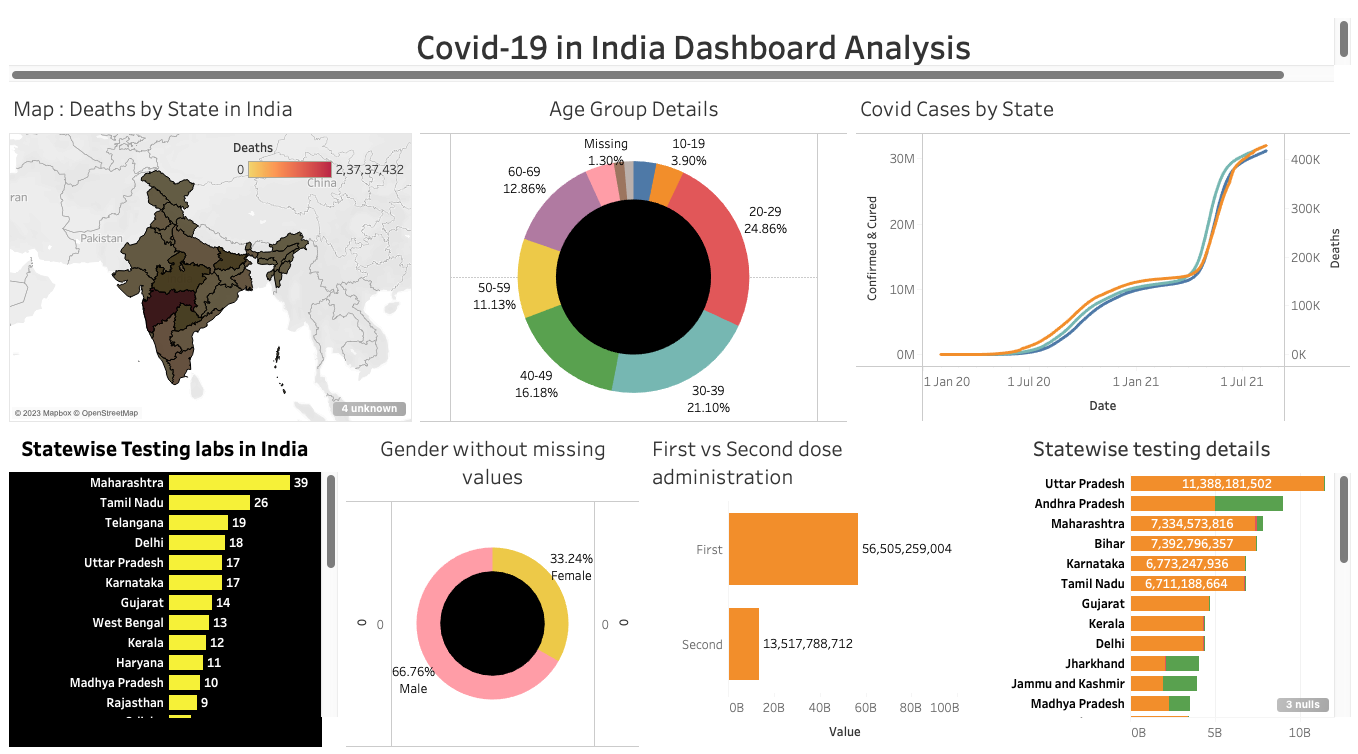

What the dashboard file says about the page in this screenshot:
{"tool":"tableau","page":{"name":"Dashboard 1","canvas":[1366,768],"ordinal":0},"visuals":[{"type":"worksheet","title":"Title","mark":"Automatic","box":[8,8,1350,87.3]},{"type":"worksheet","title":"Map : Deaths by State in India","mark":"Automatic","box":[8,95.3,410.7,339.7]},{"type":"worksheet","title":"Age Group Details","mark":"Pie","rows":["Calculation_489485032338145281","Calculation_489485032338161667"],"box":[418.7,95.3,436.4,339.7]},{"type":"worksheet","title":"Covid Cases by State","mark":"Automatic","rows":["Deaths"],"cols":["Date"],"box":[855.1,95.3,502.9,339.7]},{"type":"legend","title":"Map : Deaths by State in India","param":"[federated.067vdr31i0kn341d56voi1po8vsw].[sum:Deaths:qk]","box":[236,148,176,62]},{"type":"worksheet","title":"ICMR Testing labs in India","mark":"Automatic","rows":["state"],"cols":["lab"],"box":[8,435,337.5,325]},{"type":"worksheet","title":"Gender without missing values","mark":"Pie","rows":["Calculation_489485032344084485","Calculation_489485032344096775"],"box":[345.5,435,301.7,325]},{"type":"worksheet","title":"First vs Second dose administration","mark":"Automatic","box":[647.1,435,321.6,325]},{"type":"worksheet","title":"Statewise testing details","mark":"Automatic","rows":["State"],"box":[968.8,435,389.2,325]}]}

Visuals, with their boxes in screenshot pixels (x1, y1, x2, y2), scaled from the page's 1366x768 canvas onto the 1358x754 screenshot:
"Title" worksheet: box(8, 8, 1350, 94)
"Map : Deaths by State in India" worksheet: box(8, 94, 416, 427)
"Age Group Details" worksheet (Pie marks): box(416, 94, 850, 427)
"Covid Cases by State" worksheet: box(850, 94, 1350, 427)
"Map : Deaths by State in India" legend: box(235, 145, 410, 206)
"ICMR Testing labs in India" worksheet: box(8, 427, 343, 746)
"Gender without missing values" worksheet (Pie marks): box(343, 427, 643, 746)
"First vs Second dose administration" worksheet: box(643, 427, 963, 746)
"Statewise testing details" worksheet: box(963, 427, 1350, 746)
